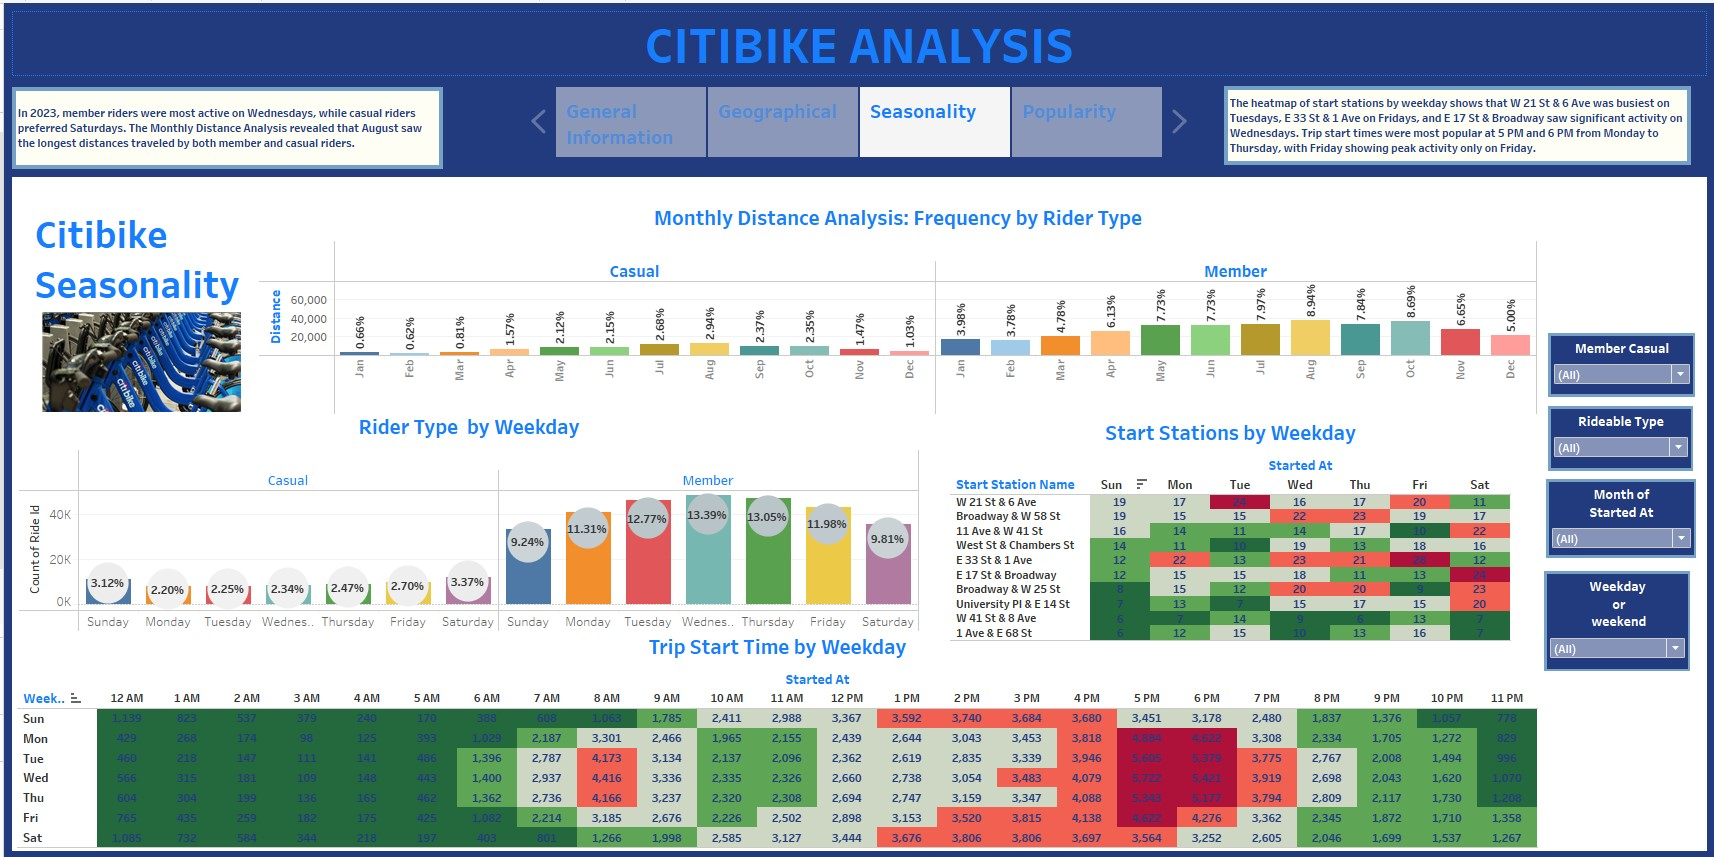

Layout of this report page (visuals, bound fields, positions):
{"tool":"tableau","page":{"name":"Citibike Seasonality","canvas":[1000,1000],"units":"permille","ordinal":2},"visuals":[{"type":"title","box":[11.7,21,213.6,198.6]},{"type":"worksheet","title":"Distance Member/Casual by month","mark":"Bar","rows":["Calculation_2480639023819456523"],"cols":["member_casual","started_at"],"box":[145.5,32.7,754,320.1]},{"type":"image","param":"C:/Users/Isbelis/Documents/Bootcamp/Homework/Tableau-challenge/CITIBIKE-TABLEAU-","box":[15.8,199.8,121,148.4]},{"type":"filter","title":"COUN TRIP WEEKDAY START","param":"[federated.0w41ppg0dqevix11k8kzt1k9ii9s].[none:member_casual:nk]","box":[905.9,231.3,87.1,94.6]},{"type":"filter","title":"Distance Member/Casual by month","param":"[federated.0w41ppg0dqevix11k8kzt1k9ii9s].[none:rideable_type:nk]","box":[905.9,339.9,85.9,95.8]},{"type":"worksheet","title":"COUN TRIP WEEKDAY START","mark":"Bar","rows":["ride_id","ride_id"],"cols":["member_casual","started_at"],"box":[4.1,342.3,537.1,332.9]},{"type":"worksheet","title":"Start Stations by Weekday","mark":"Square","rows":["start_station_name"],"cols":["started_at"],"box":[553.5,351.6,350.5,336.4]},{"type":"filter","title":"Distance Member/Casual by month","param":"[federated.0w41ppg0dqevix11k8kzt1k9ii9s].[mn:started_at:ok]","box":[904.7,448.6,88.8,116.8]},{"type":"filter","title":"Distance Member/Casual by month","param":"[federated.0w41ppg0dqevix11k8kzt1k9ii9s].[none:Calculation_2480639024720158736:n","box":[903.6,584.1,86.5,149.5]},{"type":"worksheet","title":"Trip Start Time by Weekday","mark":"Square","rows":["started_at"],"cols":["started_at"],"box":[2.9,669.4,922.8,325.9]}]}

Visuals, with their boxes on the dashboard's canvas, which has no fixed pixel size, in thousandths of its width and height (x1, y1, x2, y2). These are canvas units, not pixel positions in the 1714x857 screenshot, which may show the page scaled, cropped or inside an application window:
title: detection(12, 21, 225, 220)
"Distance Member/Casual by month" worksheet (Bar marks): detection(146, 33, 900, 353)
image: detection(16, 200, 137, 348)
"COUN TRIP WEEKDAY START" filter: detection(906, 231, 993, 326)
"Distance Member/Casual by month" filter: detection(906, 340, 992, 436)
"COUN TRIP WEEKDAY START" worksheet (Bar marks): detection(4, 342, 541, 675)
"Start Stations by Weekday" worksheet (Square marks): detection(554, 352, 904, 688)
"Distance Member/Casual by month" filter: detection(905, 449, 994, 565)
"Distance Member/Casual by month" filter: detection(904, 584, 990, 734)
"Trip Start Time by Weekday" worksheet (Square marks): detection(3, 669, 926, 995)
